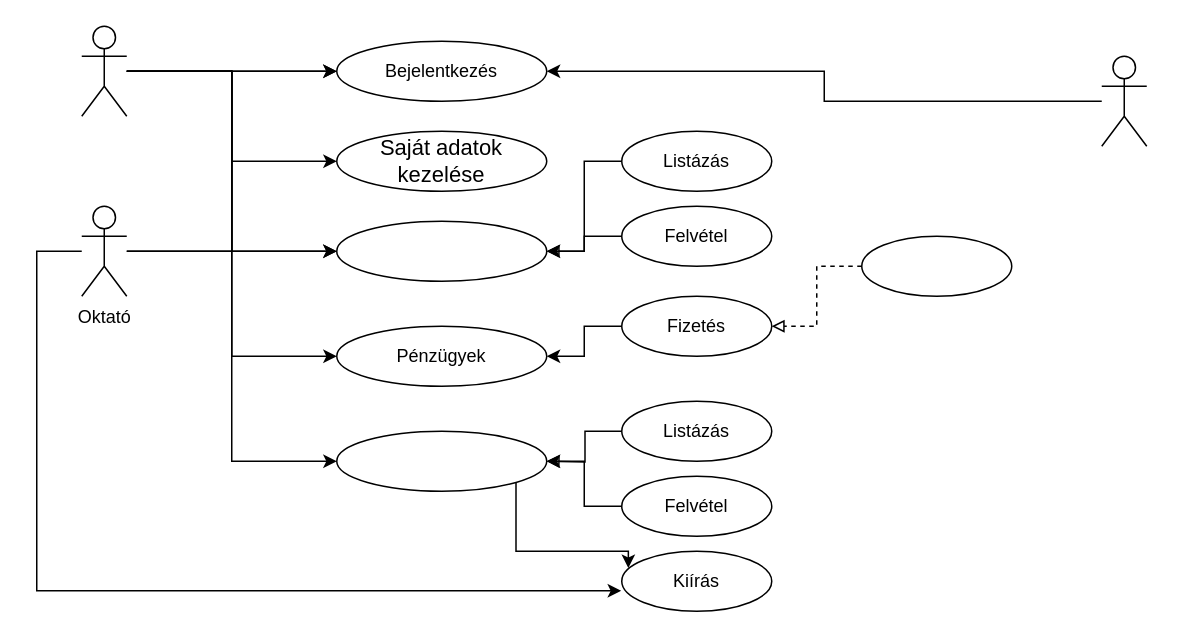
The diagram is 1190 pixels wide and 638 high, and some of its shapes have lost their labels. The shapes that lost their labels are listed below. From the top down, each one's box as (x1, y1, x2, y2) in pixels, then its label:
(80, 25, 127, 116): Diák
(1100, 55, 1147, 146): Adatbázis
(335, 220, 547, 281): Tárgyak
(860, 235, 1012, 296): Számlázás
(335, 430, 547, 491): Vizsgák
